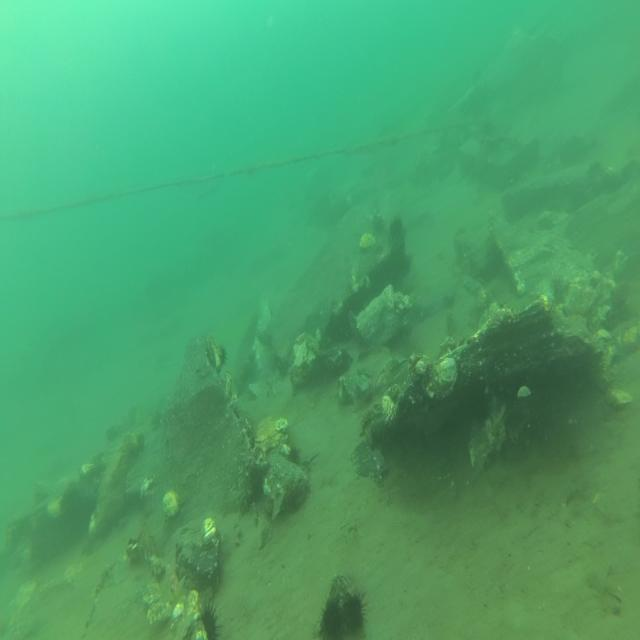echinus: (341, 588, 368, 634), (318, 596, 342, 640), (198, 599, 222, 640), (217, 341, 230, 370)
